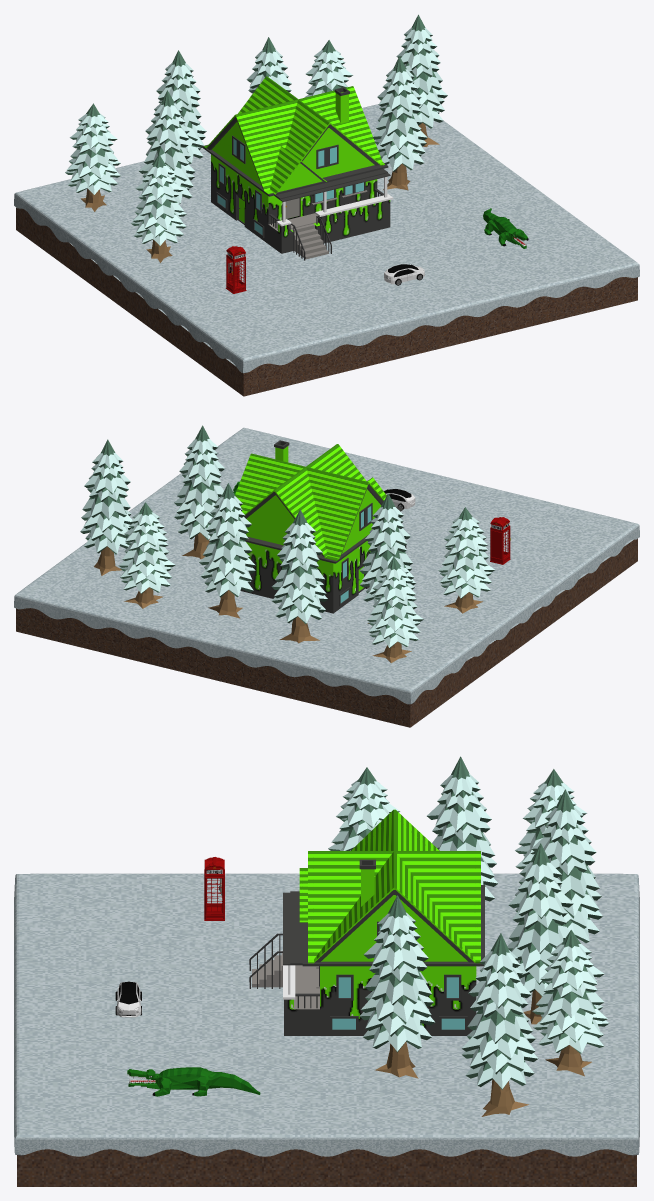
The picture shows the model from 3 angles, top to bottom: view 1: azimuth 30°, elevation 25°; view 2: azimuth 150°, elevation 25°; view 3: azimuth 270°, elevation 25°; orthographic projection. The views are drawn at different scales.
Visible parts, largest first — view 1: Cube.003, Cube.754, ANIMAL_COCODRILO, OBJRANDOM_PHONEBOOTH, VEHICLES_TESLA; view 2: Cube.003, Cube.754, OBJRANDOM_PHONEBOOTH, VEHICLES_TESLA; view 3: Cube.003, Cube.754, ANIMAL_COCODRILO, OBJRANDOM_PHONEBOOTH, VEHICLES_TESLA.
Boxes of the visible parts, x1=… form: Cube.003: x1=14, y1=14, x2=639, y2=396; Cube.754: x1=202, y1=76, x2=393, y2=260; ANIMAL_COCODRILO: x1=483, y1=208, x2=528, y2=248; OBJRANDOM_PHONEBOOTH: x1=225, y1=246, x2=246, y2=293; VEHICLES_TESLA: x1=384, y1=264, x2=424, y2=285; Cube.003: x1=14, y1=425, x2=639, y2=727; Cube.754: x1=235, y1=440, x2=406, y2=613; OBJRANDOM_PHONEBOOTH: x1=490, y1=517, x2=510, y2=564; VEHICLES_TESLA: x1=383, y1=489, x2=415, y2=508; Cube.003: x1=14, y1=756, x2=639, y2=1186; Cube.754: x1=249, y1=809, x2=484, y2=1035; ANIMAL_COCODRILO: x1=127, y1=1067, x2=260, y2=1096; OBJRANDOM_PHONEBOOTH: x1=204, y1=857, x2=224, y2=920; VEHICLES_TESLA: x1=115, y1=981, x2=141, y2=1017.
Size of the model in its own units: 4040 by 1665 by 4040.
Materials: 36 (4 with a texture image).
